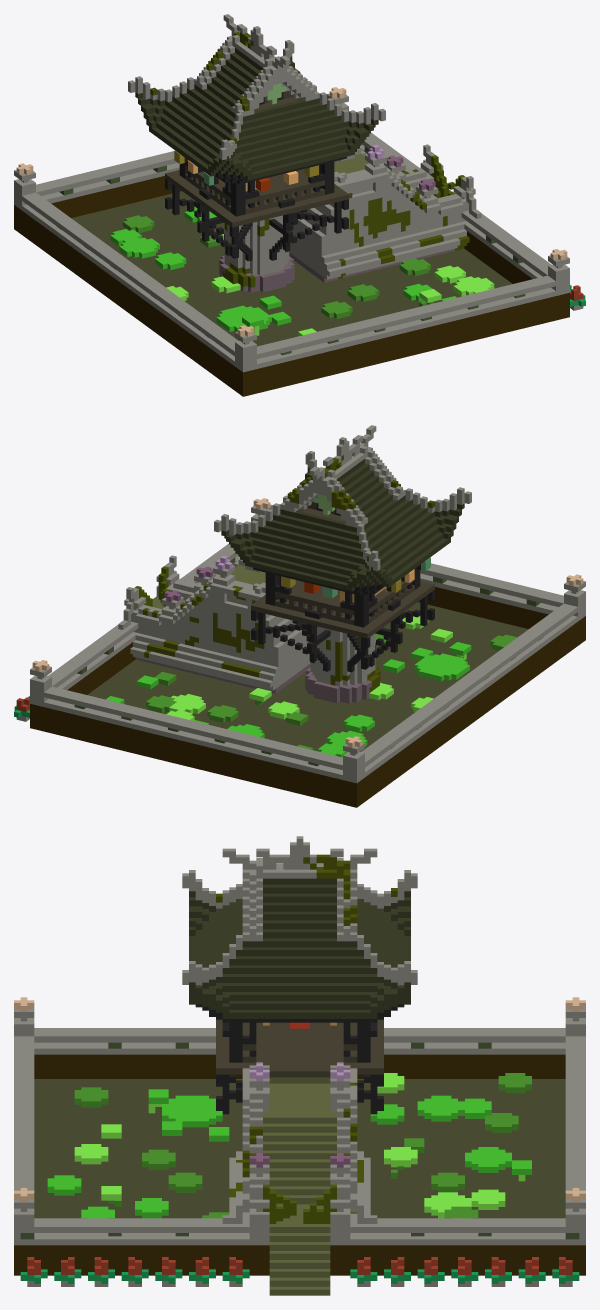
File: chua-mot-cot.glb
3 renders of one model, top to bottom at view 1: azimuth 30°, elevation 25°; view 2: azimuth 150°, elevation 25°; view 3: azimuth 270°, elevation 25°, orthographic. The views are drawn at different scales.
Visible parts, largest first — view 1: Object_2; view 2: Object_2; view 3: Object_2.
Part boxes in pixels (x1,y1,x2,y2): Object_2: [14, 14, 585, 396]; Object_2: [14, 425, 585, 807]; Object_2: [14, 836, 585, 1295].
Bounding box in the file's own units: 0.9059 × 0.6118 × 1.
Materials: 1 (1 with a texture image).
